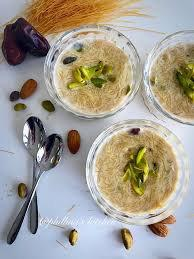kheer: (86, 130, 194, 228), (50, 26, 143, 128), (149, 27, 194, 132)
